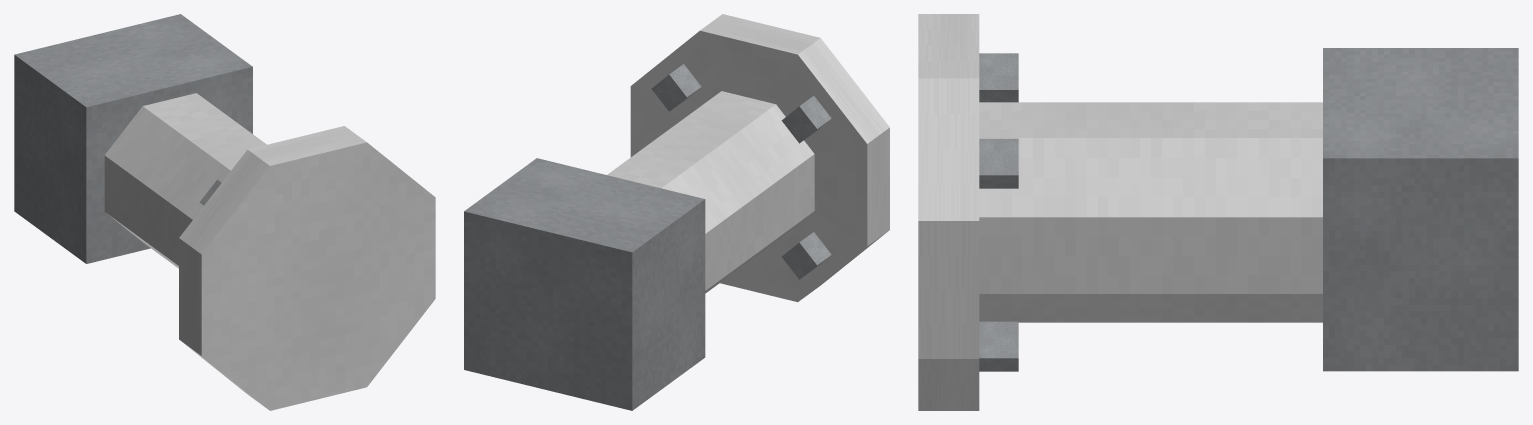
Rendered from hp_turbine_drain_south.obj.
3 renders of one model, left to right at view 1: azimuth 30°, elevation 25°; view 2: azimuth 150°, elevation 25°; view 3: azimuth 270°, elevation 25°, orthographic. The views are drawn at different scales.
Size of the model in its own units: 0.5625 by 0.5625 by 0.92.
